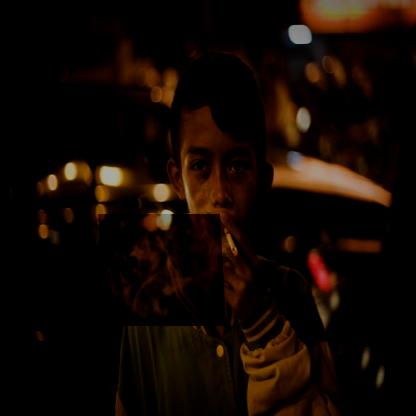smoke: (96, 214, 222, 326)
